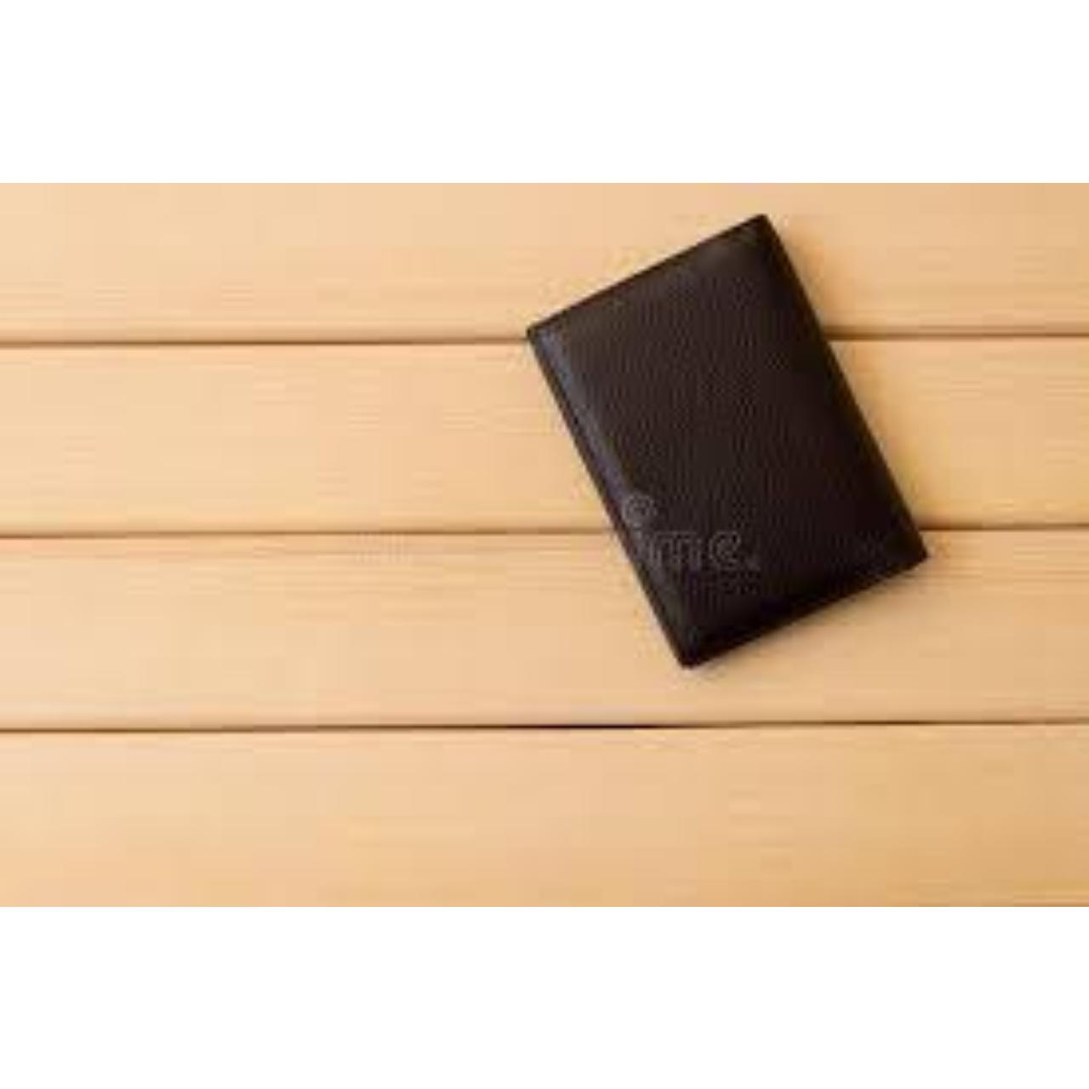wallet: (487, 205, 1017, 663)
